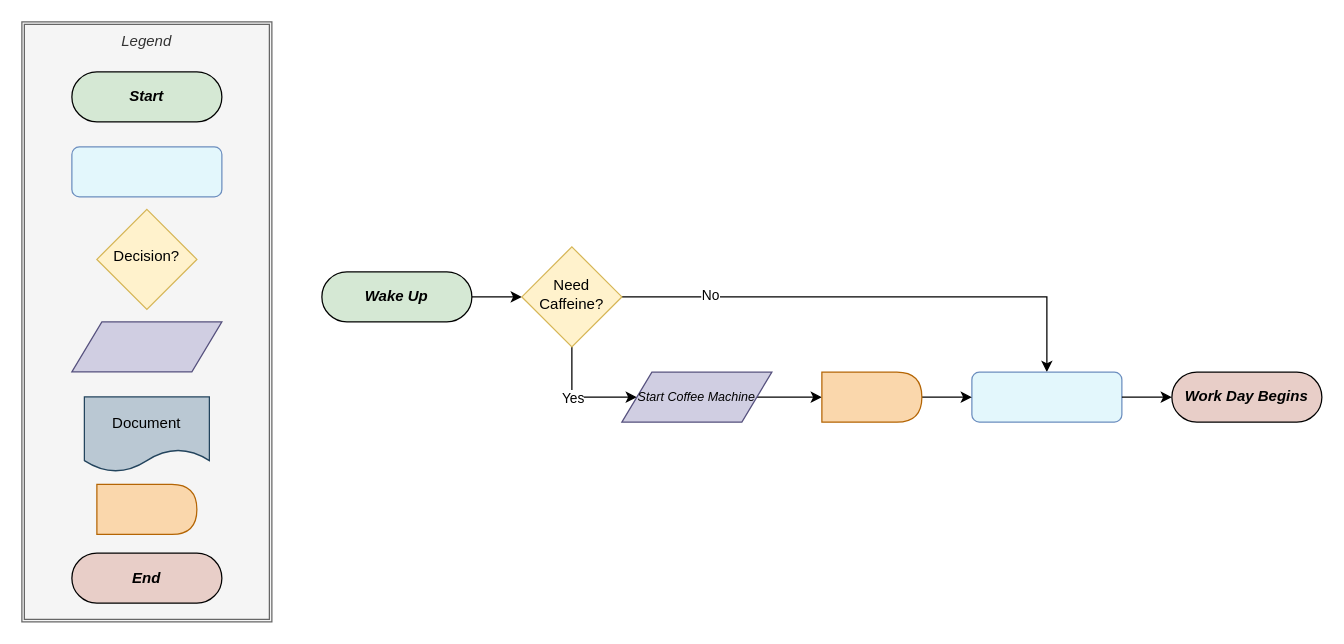
The diagram is 1344 pixels wide and 644 high, and some of its shapes have lost their labels. The shapes that lost their labels are listed below. From the top down, each one's centre as x and y in pixels, then its label:
point 146,171: Process Step
point 146,346: Standard Input
point 871,396: Wait For Coffee
point 1046,396: Turn On Computer
point 146,508: Delay
